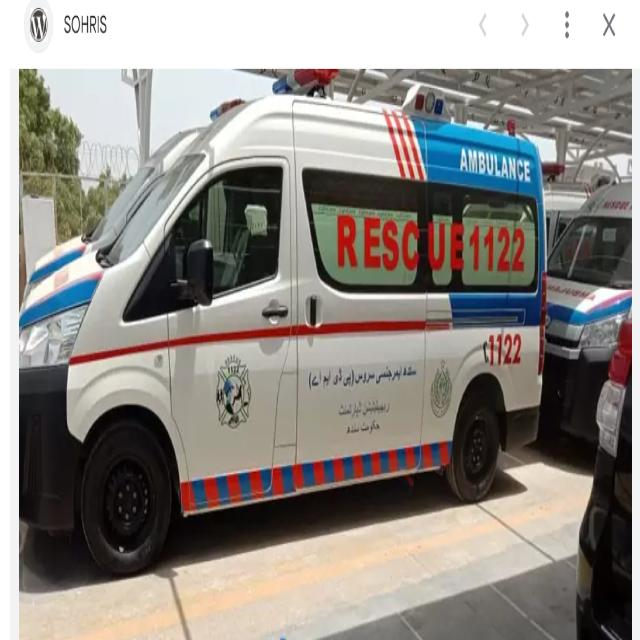ambulance: (19, 106, 546, 508)
